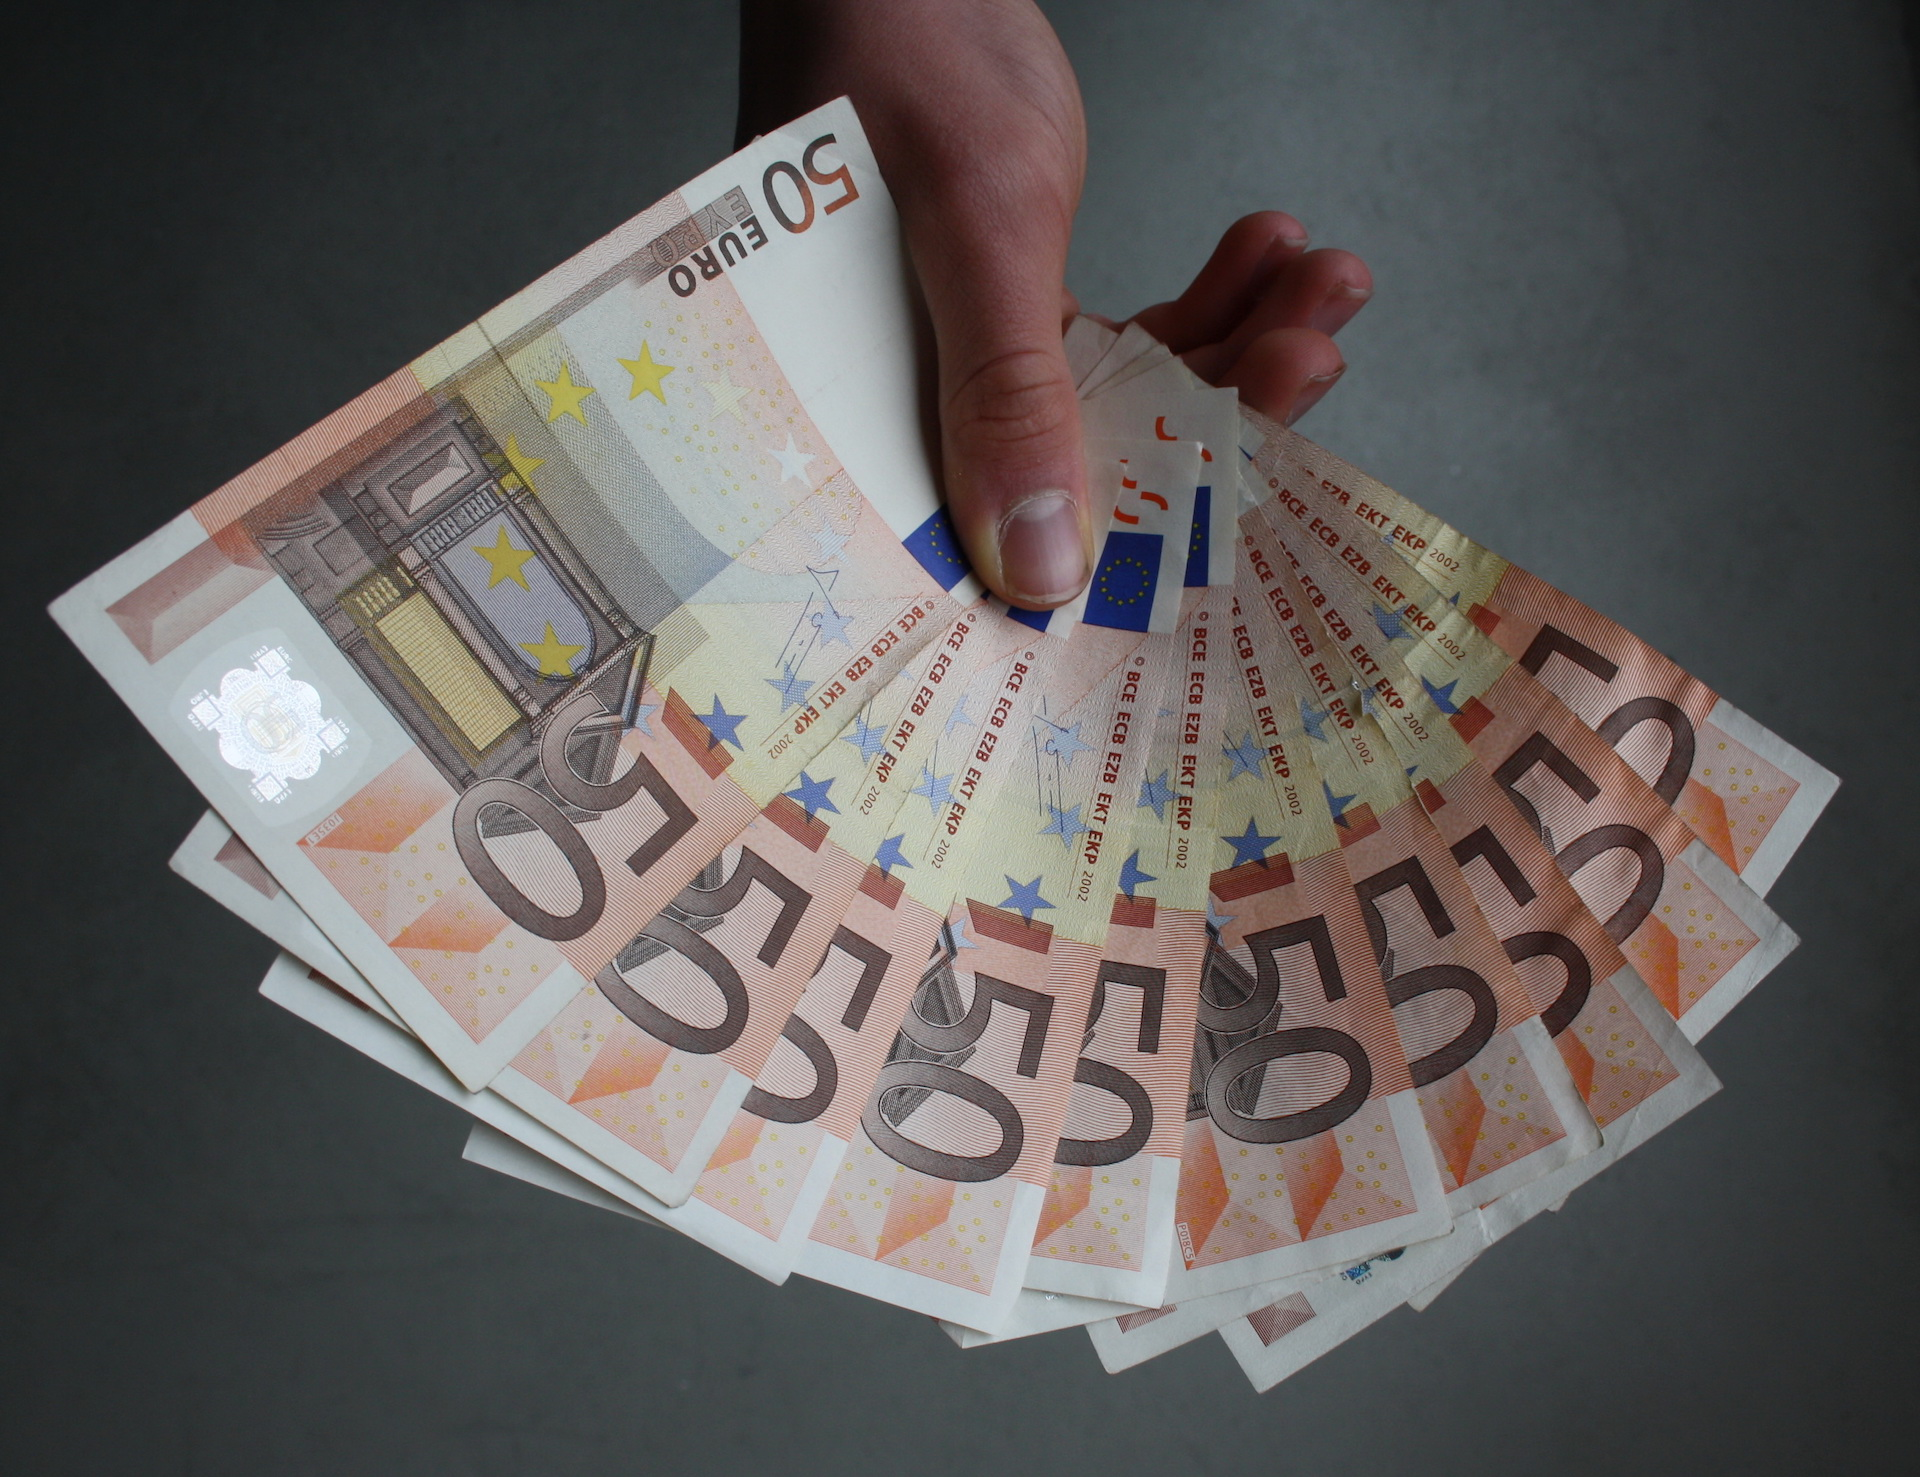billete: (36, 88, 1850, 1399)
